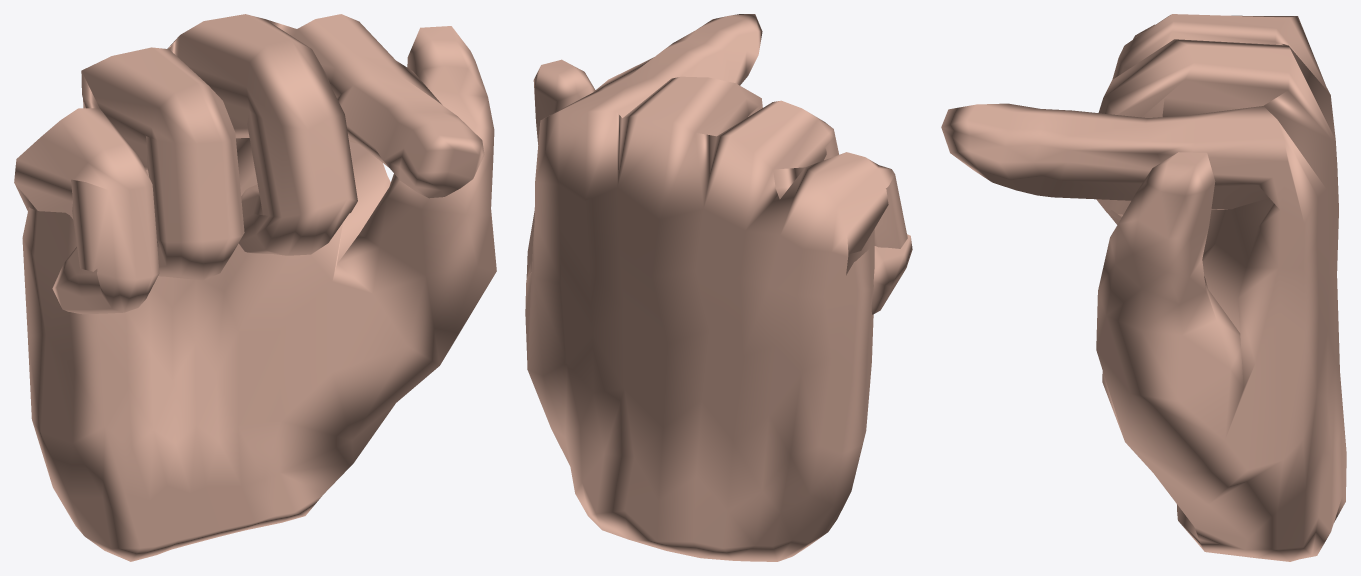
File: MAO_SETE.obj
3 views of the same model, side by side, from view 1: azimuth 30°, elevation 25°; view 2: azimuth 150°, elevation 25°; view 3: azimuth 270°, elevation 25° (orthographic). The views are drawn at different scales.
Visible parts, largest first — view 1: mao_dir:mao_dir; view 2: mao_dir:mao_dir; view 3: mao_dir:mao_dir.
Part boxes in pixels (x1,y1,x2,y2): mao_dir:mao_dir: [14, 14, 496, 561]; mao_dir:mao_dir: [525, 14, 912, 561]; mao_dir:mao_dir: [941, 14, 1346, 561].
Bounding box in the file's own units: 136 × 151 × 114.
